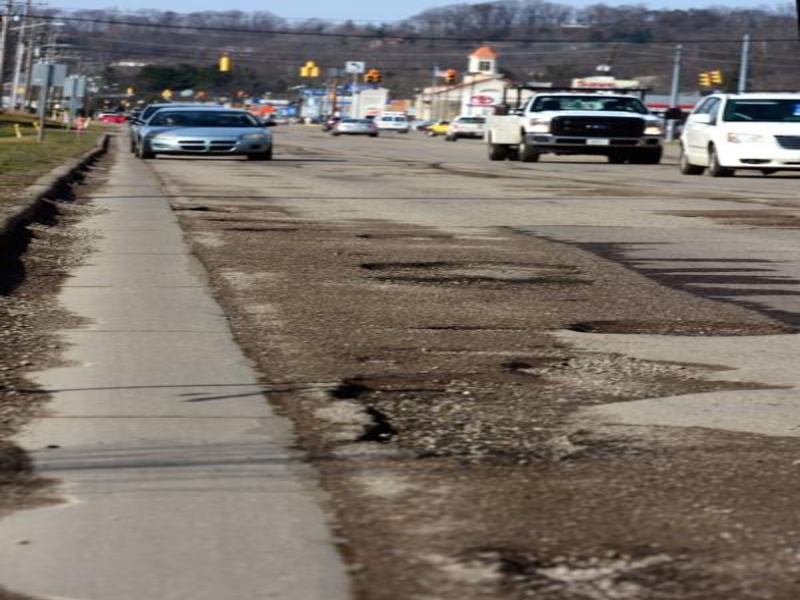pothole: (332, 360, 601, 460), (356, 253, 588, 297), (570, 315, 782, 343)
